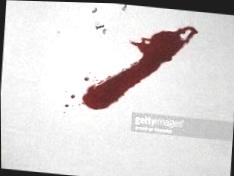Fire: (80, 24, 198, 109)
